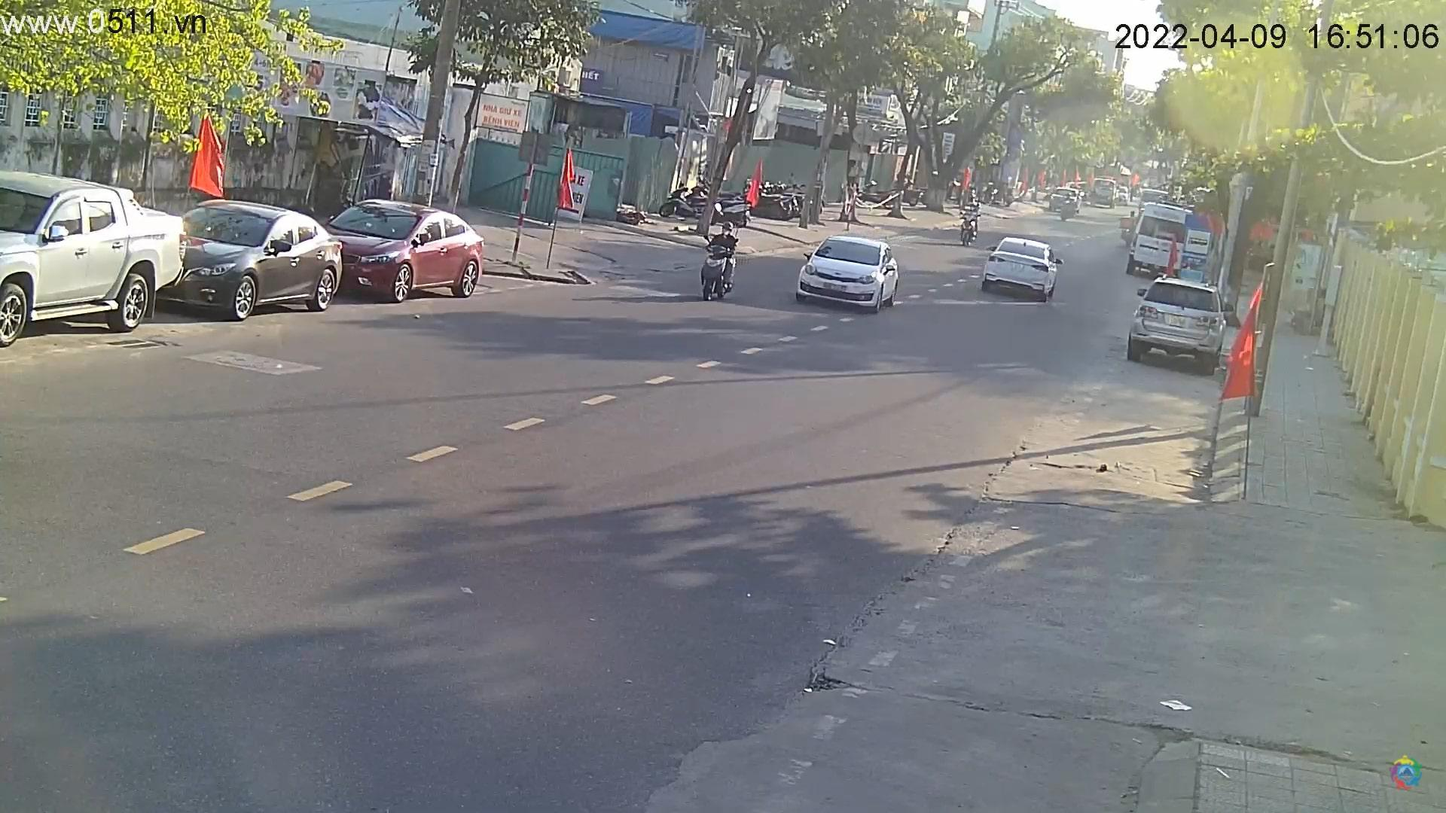car: (2, 170, 188, 351), (163, 201, 350, 323), (316, 198, 490, 305), (798, 236, 902, 310)
motorbike: (697, 215, 739, 302)
